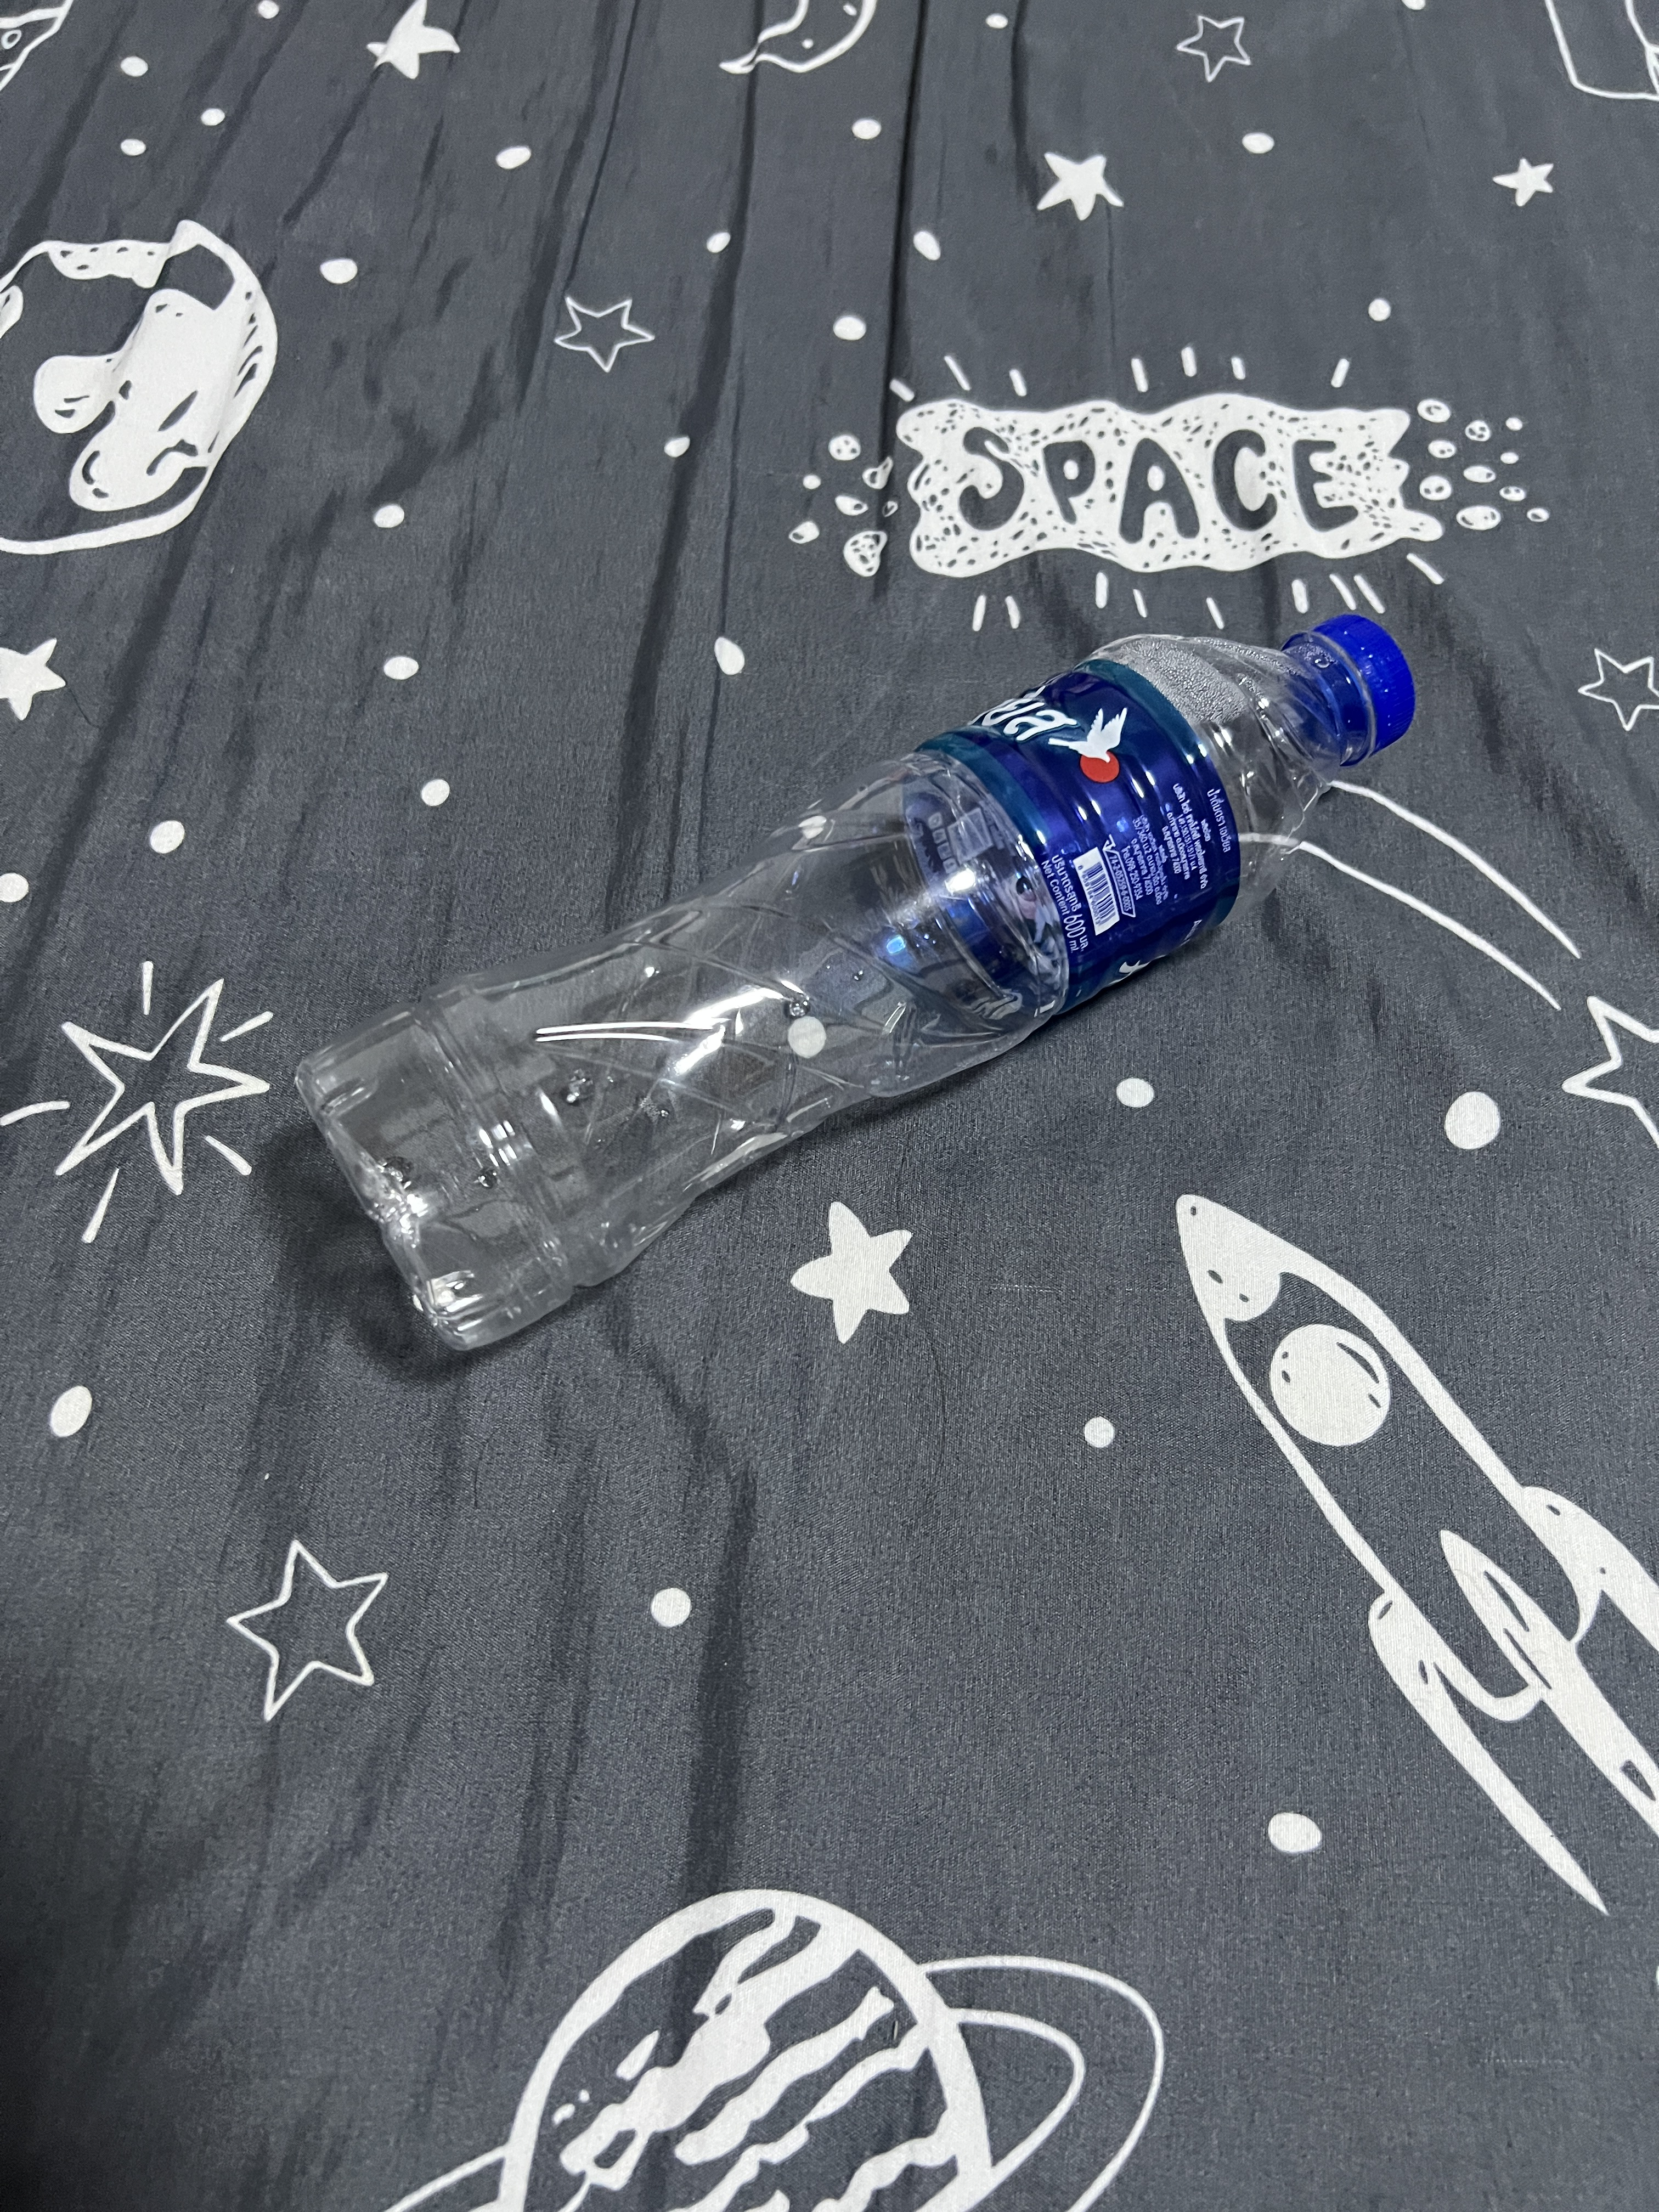plastic_bottle: (232, 495, 1455, 1378)
